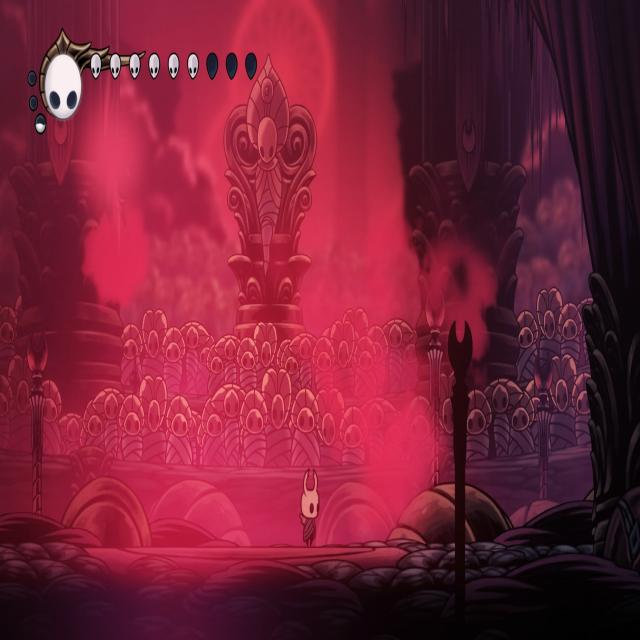Player: (298, 462, 323, 548)
